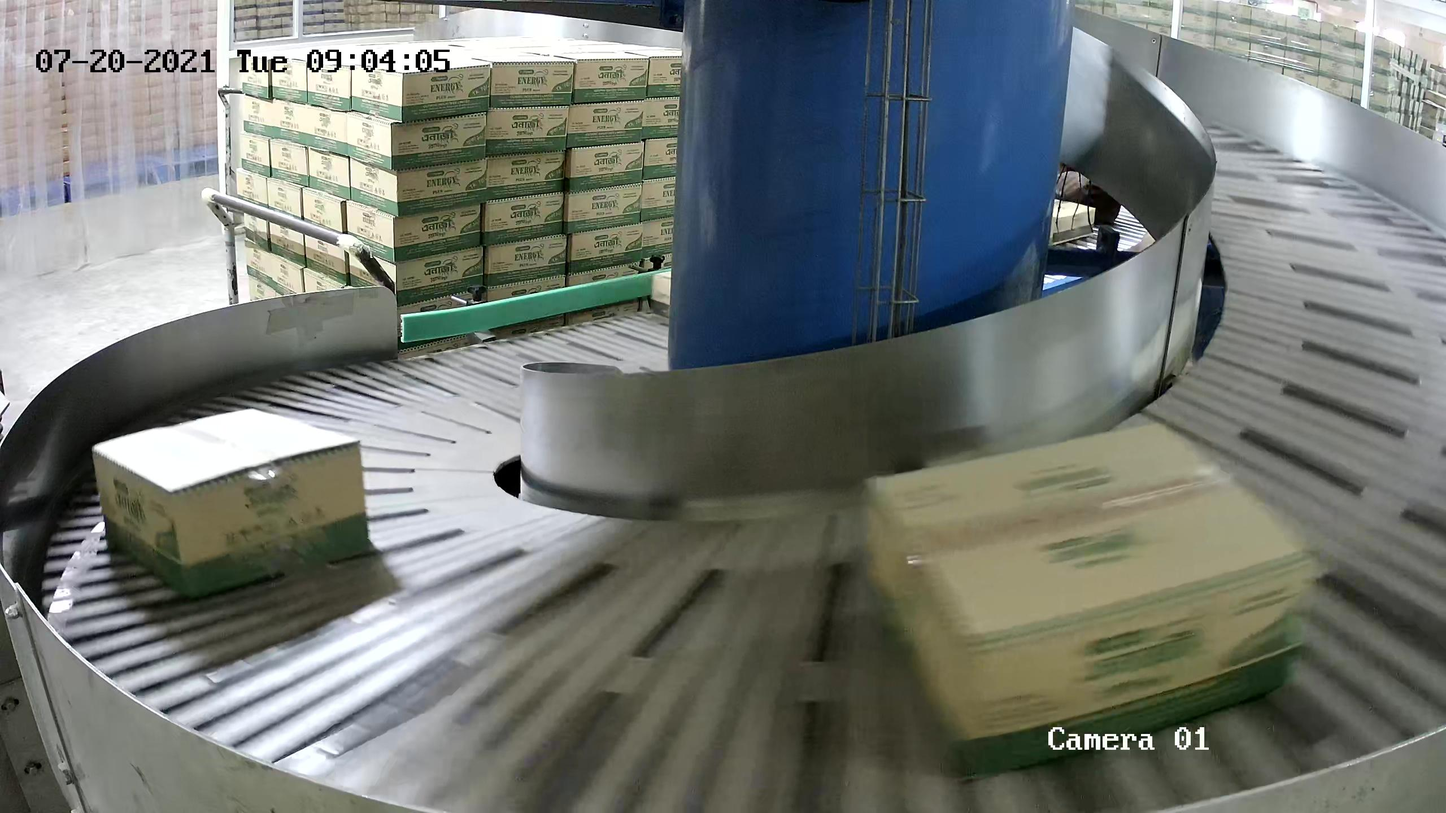Box: (858, 419, 1320, 778), (90, 408, 371, 601)
